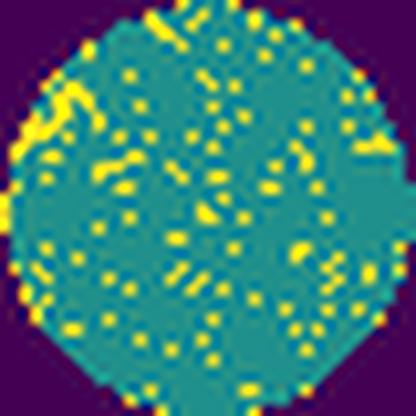Edge-Loc: (0, 64, 105, 158)
